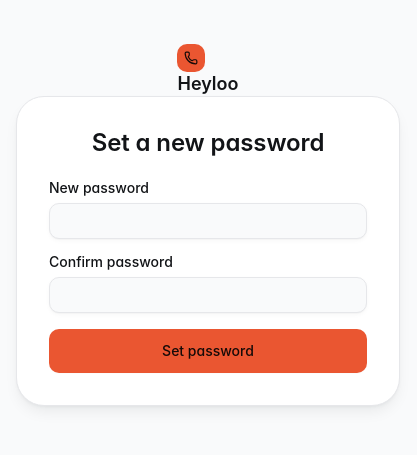
Test case: /reset-password/confirm (AUTH-10, MAP-20) › MAP-20: empty submit shows one friendly message per field, never raw zod text
Click the button "Set password" at (208,351), box x1=49 y1=329 x2=367 y2=373
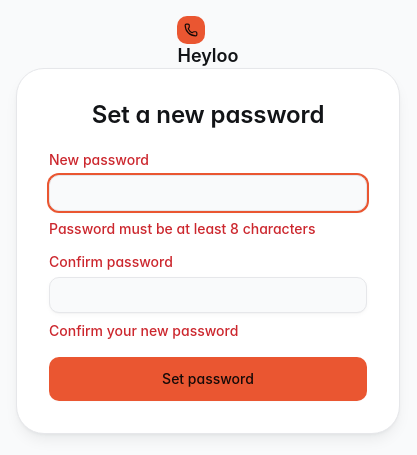
Check: the text "Password must be at least 8 characters" is shown, box x1=49 y1=220 x2=316 y2=237
Check: the text "Confirm your new password" is shown, box x1=49 y1=322 x2=238 y2=339
